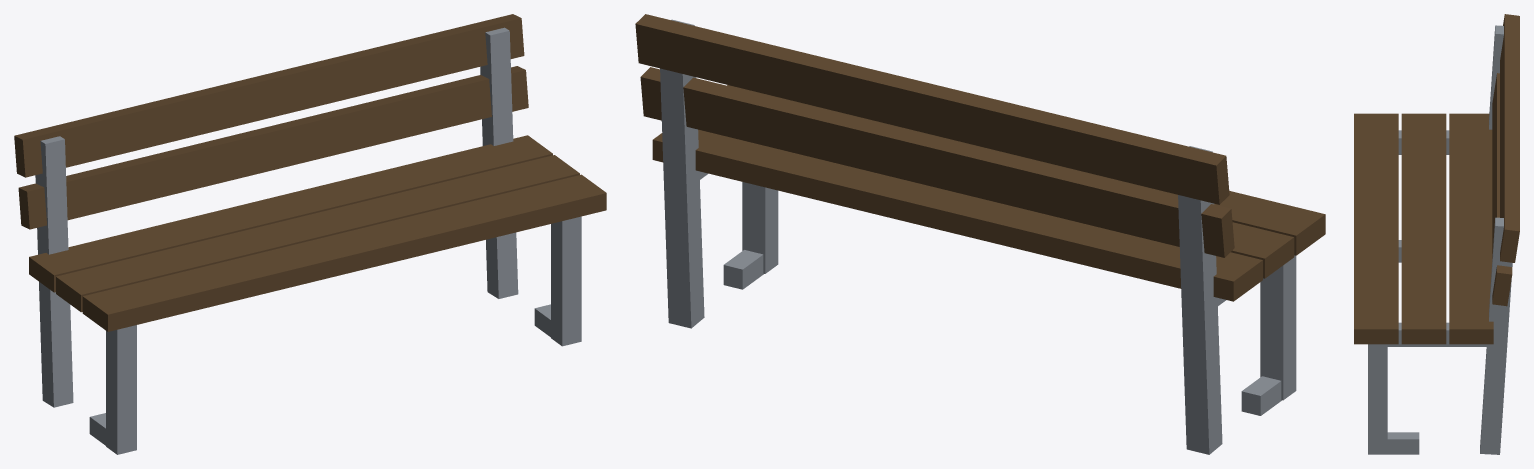
File: prop_bench.glb
3 renders of one model, left to right at view 1: azimuth 30°, elevation 25°; view 2: azimuth 150°, elevation 25°; view 3: azimuth 270°, elevation 25°, orthographic. The views are drawn at different scales.
Visible parts, largest first — view 1: seat_slat_2, back_slat_1, back_slat_0, seat_slat_1, seat_slat_0, leg_back_R, leg_back_L, leg_front_L, leg_front_R; view 2: back_slat_1, back_slat_0, seat_slat_0, leg_back_L, leg_back_R, leg_front_R, seat_slat_2, leg_front_L, seat_slat_1, foot_L, foot_R; view 3: seat_slat_1, seat_slat_2, seat_slat_0, back_slat_1, leg_back_L, leg_front_L, back_slat_0, foot_L, leg_back_R, seat_rail_L, seat_rail_R.
Part boxes in pixels (x1,y1,x2,y2): seat_slat_2: (82, 174, 606, 331); back_slat_1: (14, 14, 524, 177); back_slat_0: (18, 66, 528, 229); seat_slat_1: (56, 155, 579, 312); seat_slat_0: (29, 135, 552, 292); leg_back_R: (35, 136, 73, 407); leg_back_L: (480, 27, 518, 298); leg_front_L: (551, 216, 581, 346); leg_front_R: (106, 325, 136, 454); back_slat_1: (635, 14, 1229, 204); back_slat_0: (640, 67, 1234, 257); seat_slat_0: (652, 129, 1262, 301); leg_back_L: (660, 19, 704, 328); leg_back_R: (1178, 146, 1222, 454); leg_front_R: (1260, 255, 1296, 400); seat_slat_2: (727, 85, 1325, 255); leg_front_L: (742, 182, 778, 273); seat_slat_1: (1231, 222, 1294, 278); foot_L: (723, 250, 763, 289); foot_R: (1241, 376, 1281, 415); seat_slat_1: (1401, 113, 1446, 344); seat_slat_2: (1354, 113, 1398, 344); seat_slat_0: (1449, 113, 1493, 344); back_slat_1: (1500, 14, 1519, 262); leg_back_L: (1480, 217, 1512, 454); leg_front_L: (1368, 344, 1387, 454); back_slat_0: (1492, 73, 1512, 306); foot_L: (1387, 432, 1419, 454); leg_back_R: (1489, 25, 1503, 129); seat_rail_L: (1387, 322, 1487, 346); seat_rail_R: (1398, 130, 1449, 154).
Size of the model in its own units: 1.66 by 0.8379 by 0.5403.
